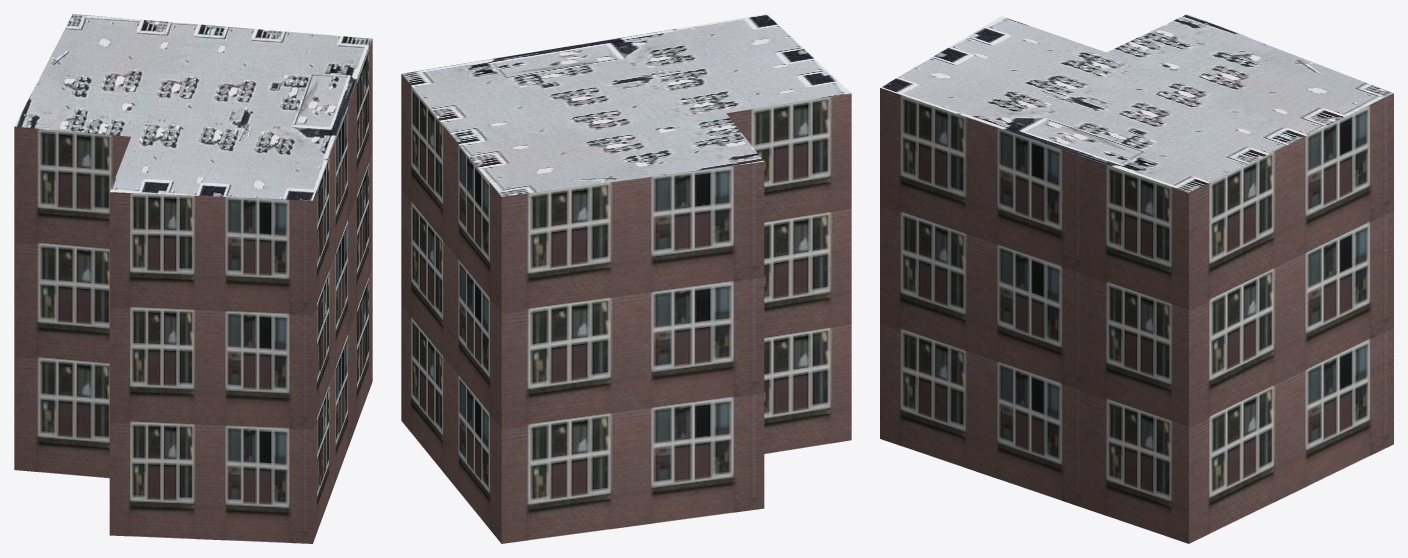
Rendered from ResTex__3160.fbx.
3 views of the same model, side by side, from view 1: azimuth 30°, elevation 25°; view 2: azimuth 150°, elevation 25°; view 3: azimuth 270°, elevation 25° (orthographic). The views are drawn at different scales.
Visible parts, largest first — view 1: CityEngineMaterial_12_m, CityEngineMaterial_4_m; view 2: CityEngineMaterial_12_m, CityEngineMaterial_4_m; view 3: CityEngineMaterial_12_m, CityEngineMaterial_4_m.
Part boxes in pixels (bbox=[...]): CityEngineMaterial_12_m: bbox=[14, 39, 372, 543]; CityEngineMaterial_4_m: bbox=[14, 14, 372, 200]; CityEngineMaterial_12_m: bbox=[401, 74, 851, 543]; CityEngineMaterial_4_m: bbox=[401, 14, 850, 196]; CityEngineMaterial_12_m: bbox=[880, 88, 1393, 543]; CityEngineMaterial_4_m: bbox=[880, 14, 1393, 192].
Size of the model in its own units: 9.84 by 9 by 11.94.
2 materials, 2 textured.
